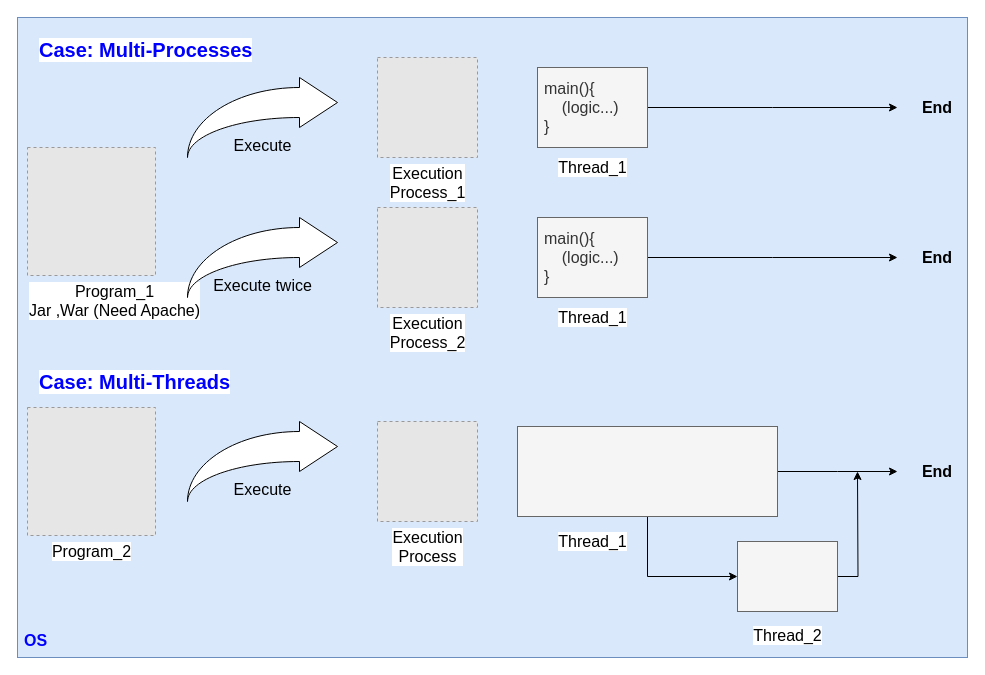
Image size: 985x675. Some labels were removed from this diagram. Grey dashed boxes stand in for pictures. Each missing label, with the centre of its shape:
main(){ Thread thread_2 = new Thread() (Logic...) }: (x=647, y=471)
run(){ (Logic...) }: (x=787, y=576)
